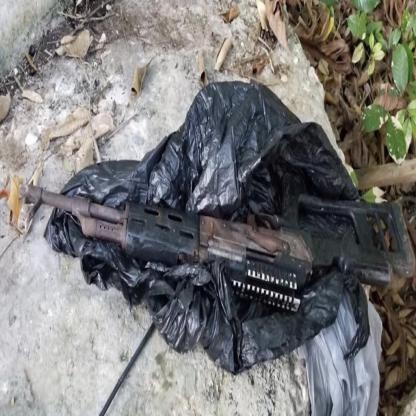Gun: (16, 105, 411, 346)
